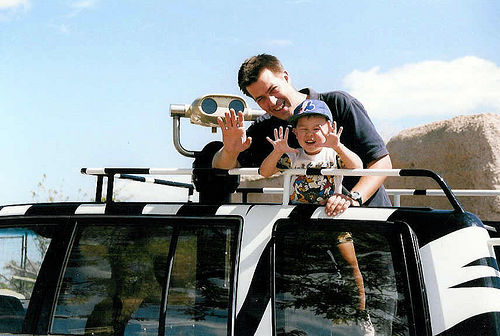without_mask: (246, 69, 297, 118), (294, 118, 330, 153)
